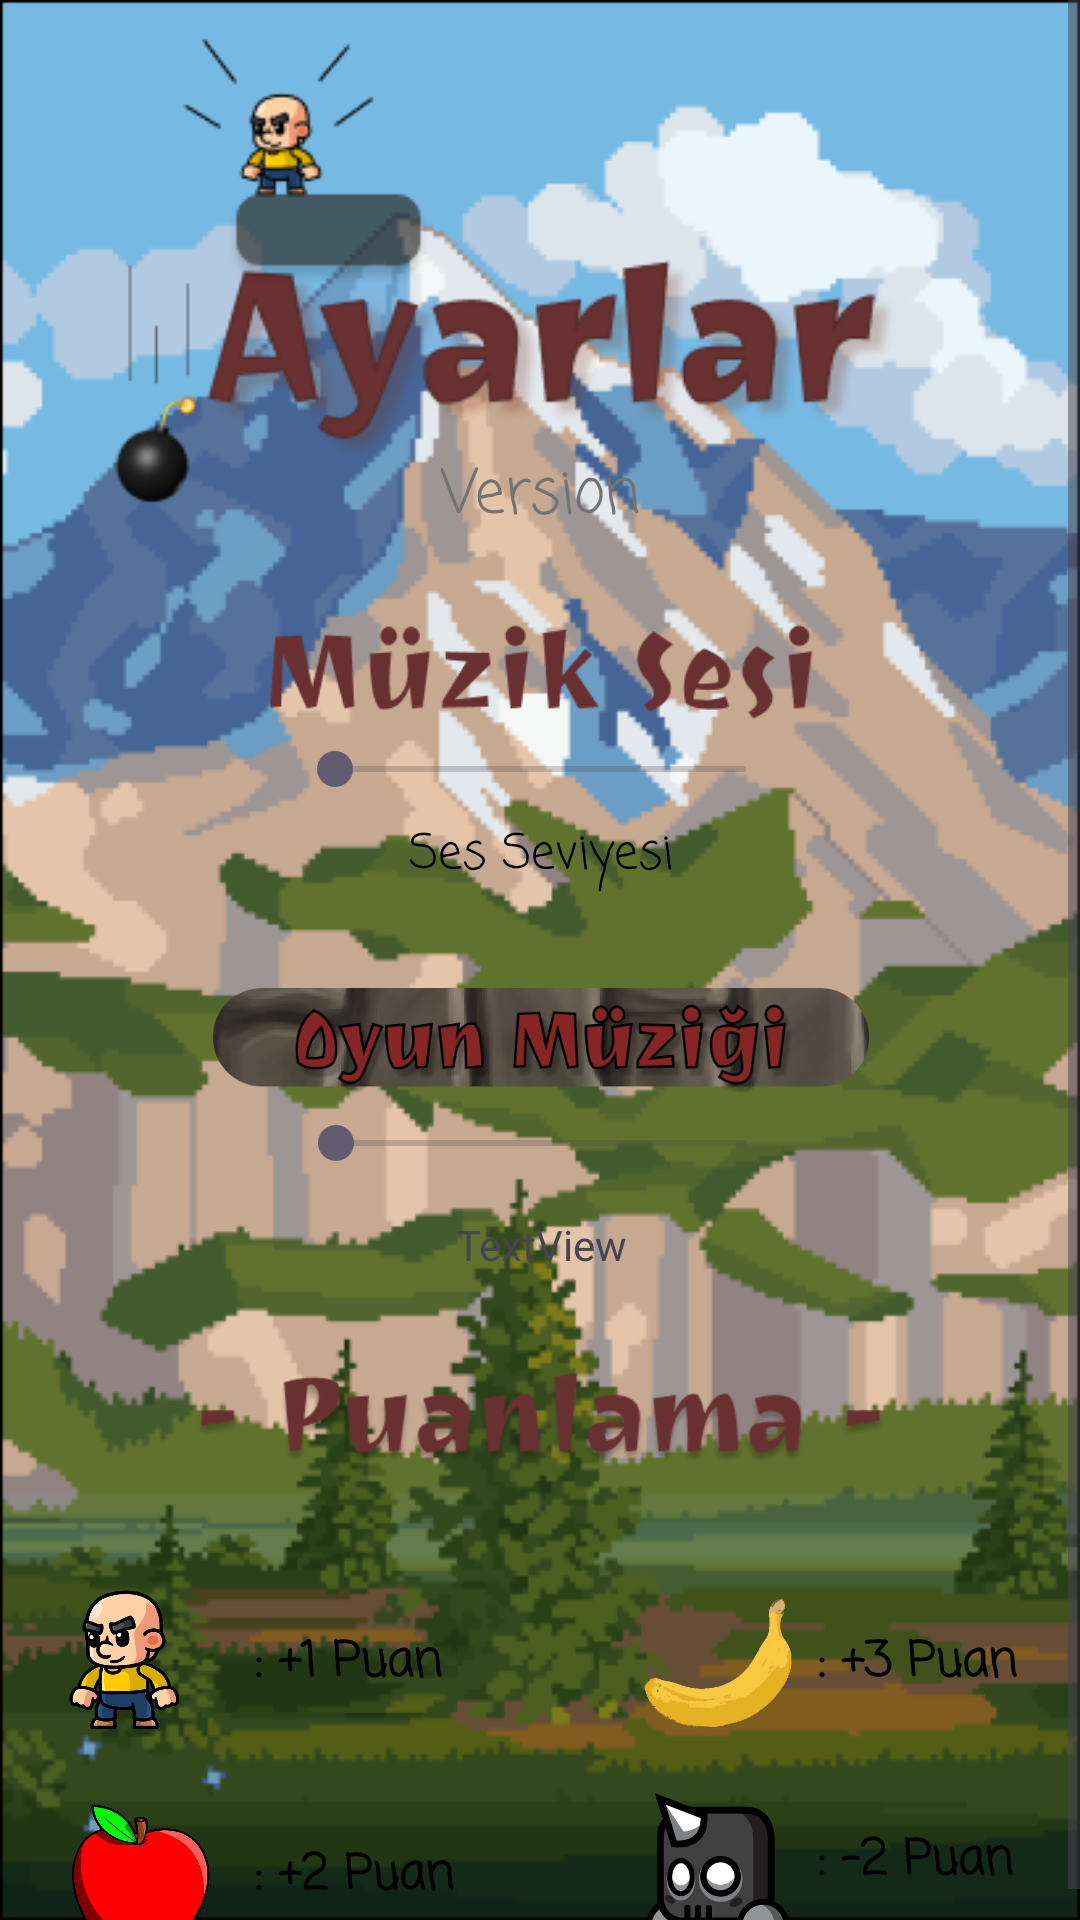

Icons on this 1080w x 1920h Android screen, each with the point to tap as (x,y):
banana: (718,1662)
kid: (140,1663)
